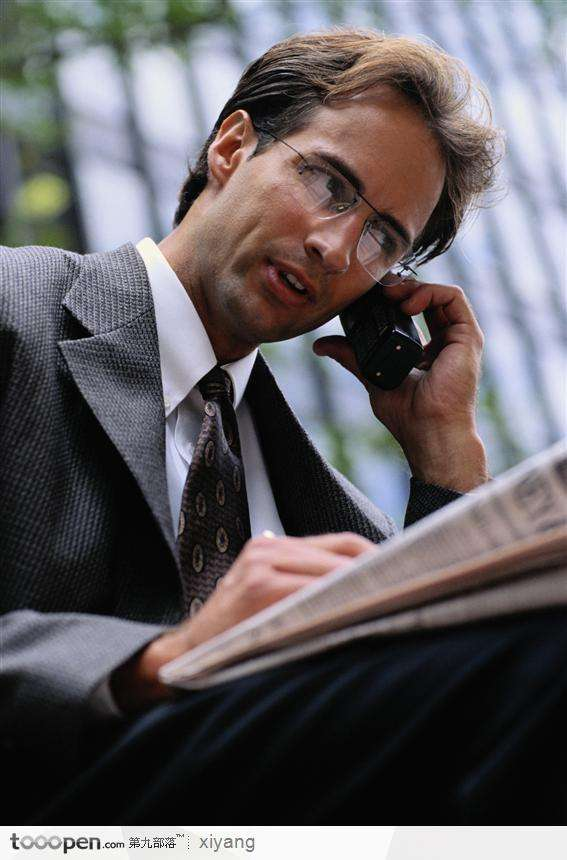calling: (310, 262, 488, 425)
